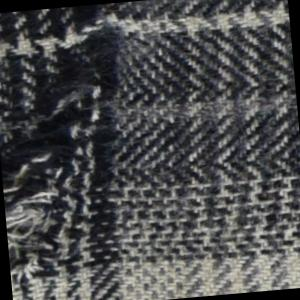Damage: (1, 2, 152, 290)
